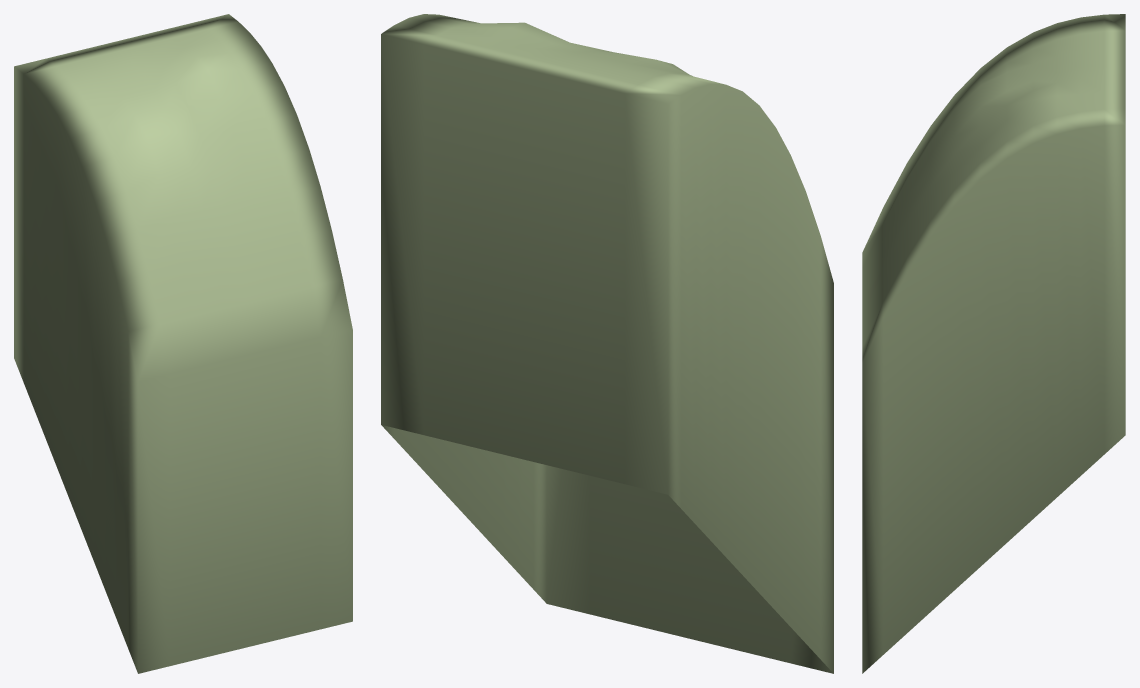
Rendered from ground-ramp-31.glb.
3 renders of one model, left to right at view 1: azimuth 30°, elevation 25°; view 2: azimuth 150°, elevation 25°; view 3: azimuth 270°, elevation 25°, orthographic. The views are drawn at different scales.
Visible parts, largest first — view 1: ground-ramp-31; view 2: ground-ramp-31; view 3: ground-ramp-31.
Part boxes in pixels (x1,y1,x2,y2): ground-ramp-31: [14, 14, 352, 673]; ground-ramp-31: [381, 14, 833, 673]; ground-ramp-31: [862, 14, 1125, 673].
Size of the model in its own units: 1 by 2.3 by 1.
